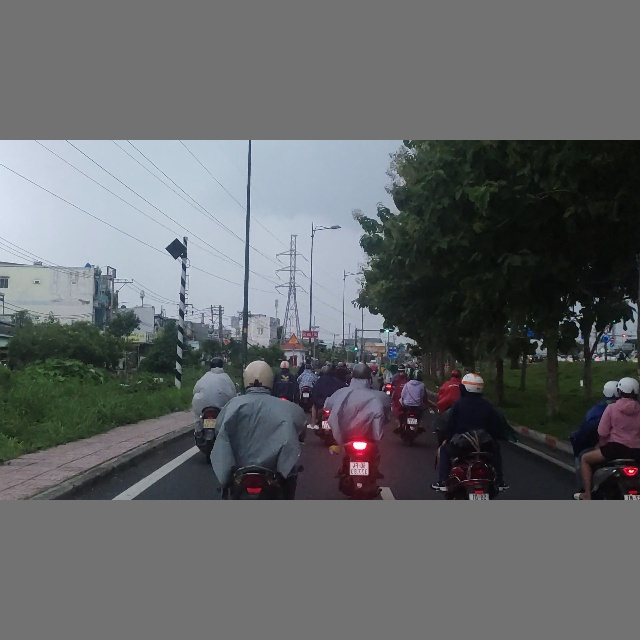W.210: (287, 333, 300, 344)
